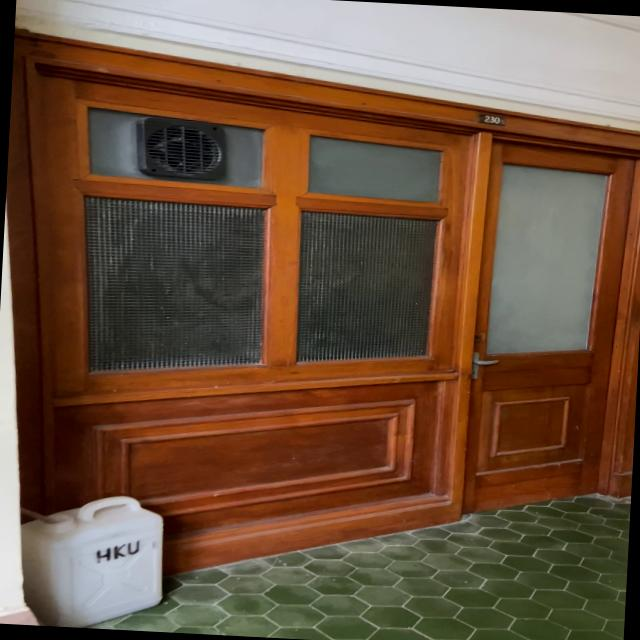room230: (476, 112, 508, 126)
